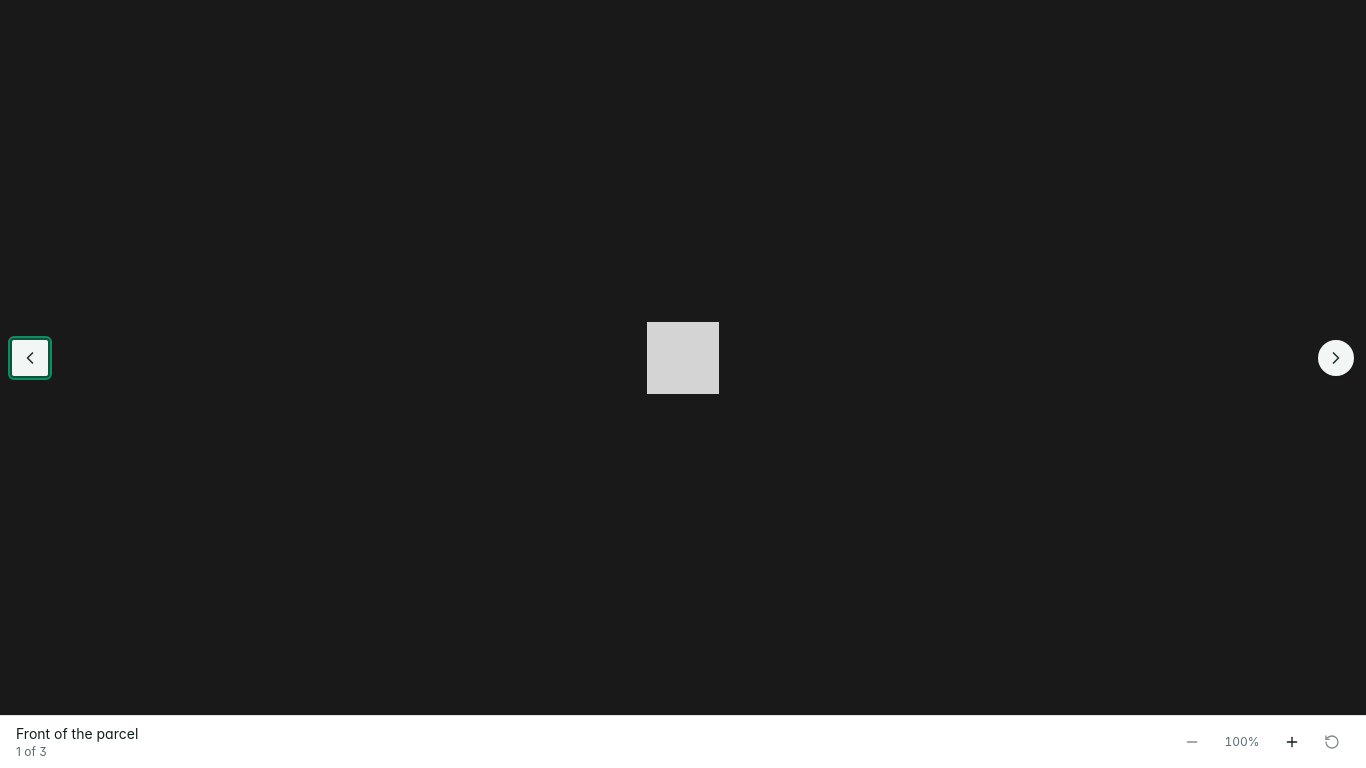
a gallery › wraps at both ends rather than dead-ending
This screenshot has width=1366, height=768.
Click the button named "previous image". click: click(30, 358)
box: [12,340,48,376]
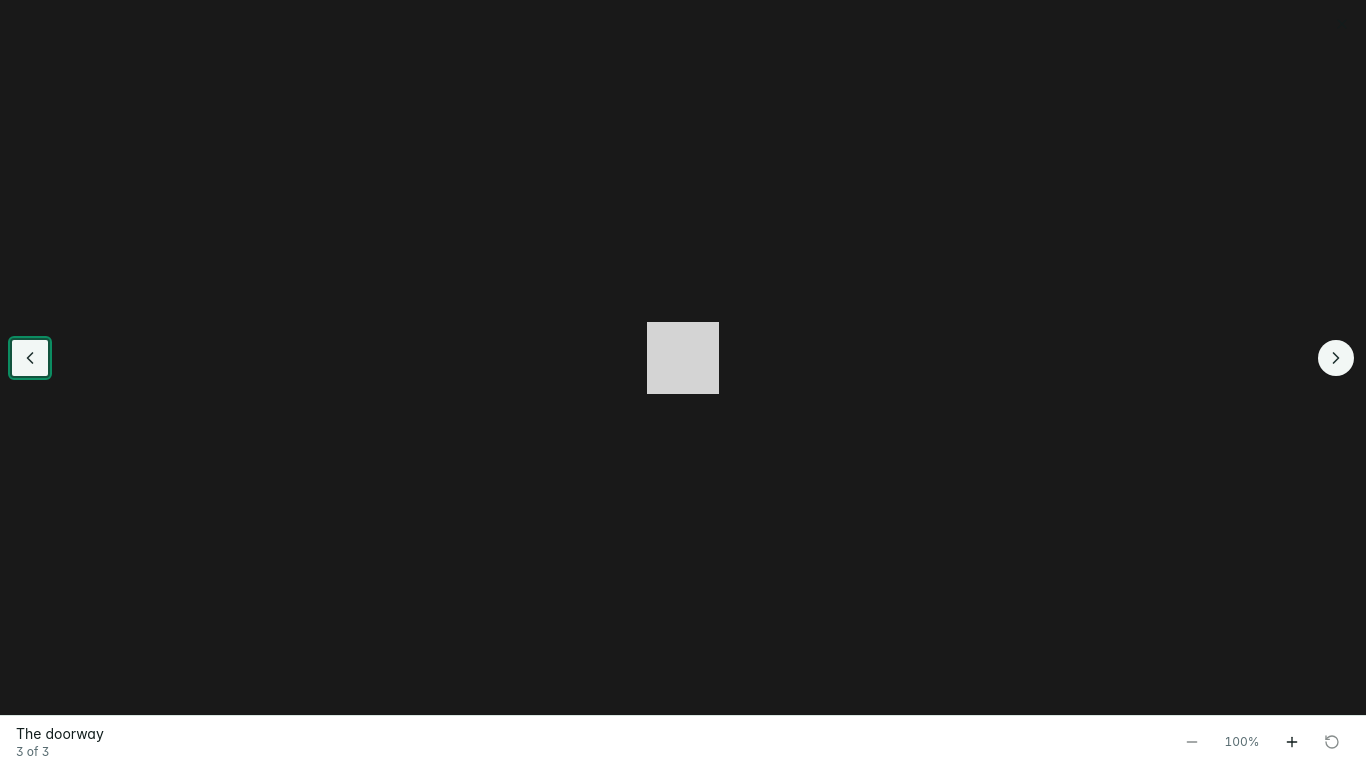
Result: the text "3 of 3" is shown at [16,744,49,759]
